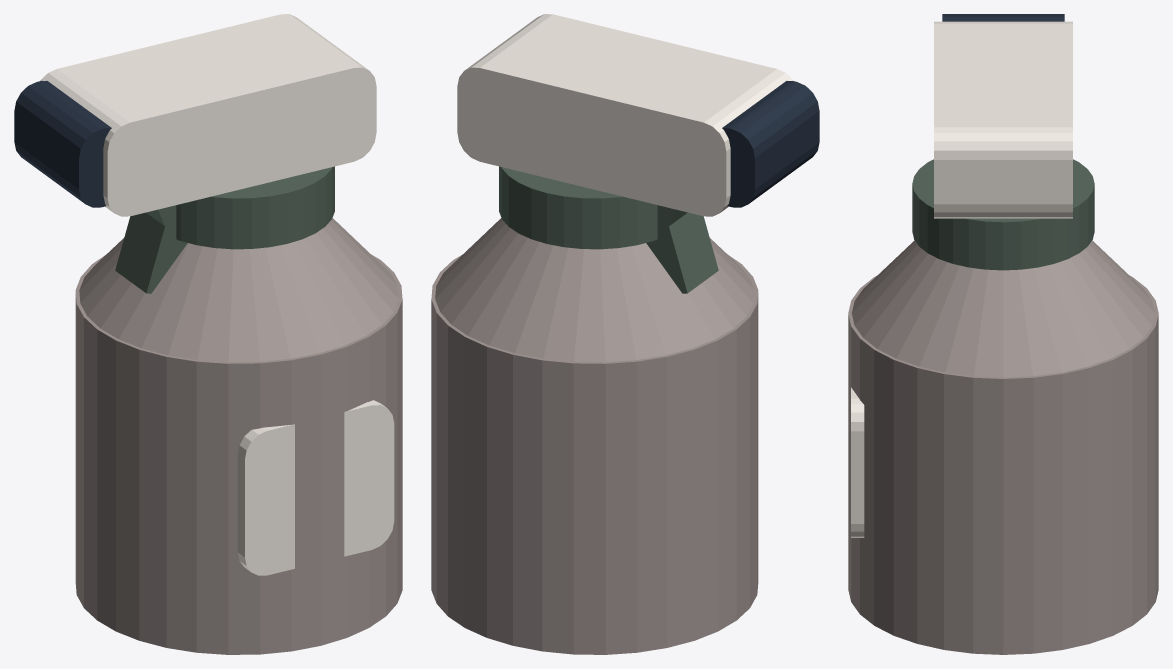
The model's file is lensbottle.glb.
3 views of the same model, side by side, from view 1: azimuth 30°, elevation 25°; view 2: azimuth 150°, elevation 25°; view 3: azimuth 270°, elevation 25° (orthographic). The views are drawn at different scales.
Parts seen in each view (by area): view 1: bottle, sprayer, shoulder, label, collar, nozzle, trigger; view 2: bottle, sprayer, shoulder, collar, nozzle, trigger; view 3: bottle, shoulder, sprayer, collar, label, nozzle.
Part boxes in pixels (x1,y1,x2,y2): bottle: [75, 255, 402, 654]; sprayer: [40, 14, 376, 216]; shoulder: [79, 218, 398, 362]; label: [237, 400, 394, 575]; collar: [176, 166, 334, 249]; nozzle: [14, 81, 111, 207]; trigger: [115, 205, 187, 293]; bottle: [431, 255, 758, 654]; sprayer: [457, 14, 793, 216]; shoulder: [435, 218, 754, 362]; collar: [499, 166, 657, 249]; nozzle: [722, 81, 819, 207]; trigger: [646, 205, 718, 293]; bottle: [848, 276, 1158, 654]; shoulder: [851, 240, 1155, 377]; sprayer: [934, 21, 1072, 218]; collar: [912, 159, 1094, 270]; label: [851, 387, 864, 537]; nozzle: [942, 14, 1064, 21].
Bounding box in the file's own units: 0.895 × 1.34 × 0.76.
